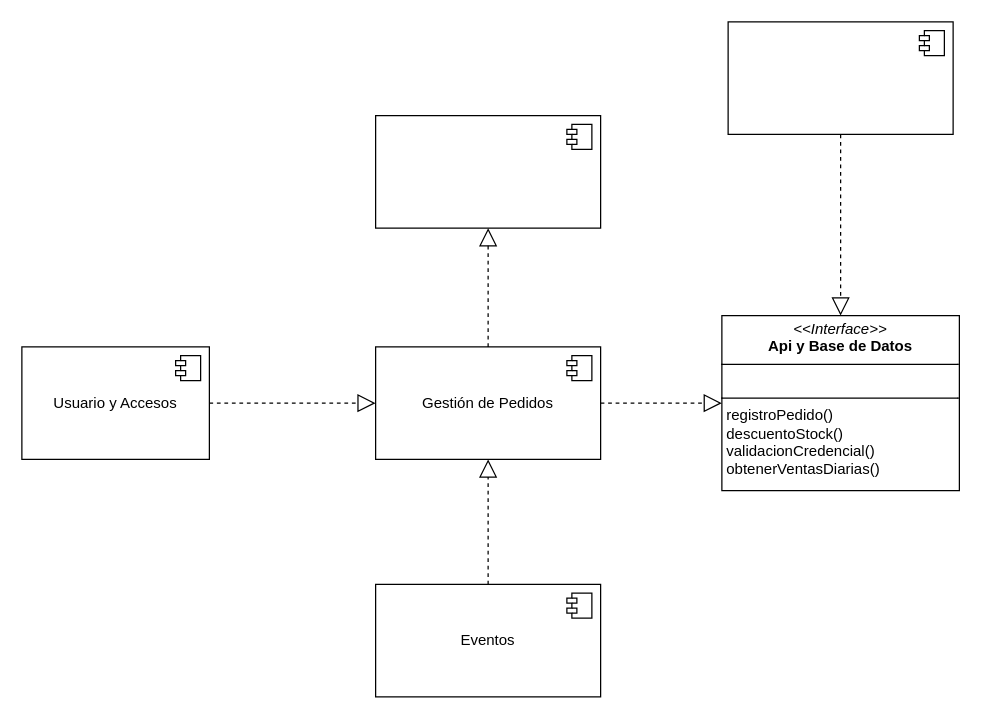
The diagram is 981 pixels wide and 719 high, and some of its shapes have lost their labels. Here are the shapes that lost their labels. From the top down, the centre of each, then its label:
At (x=840, y=77): "Estadística y Avisos".
At (x=487, y=171): "Inventario".
